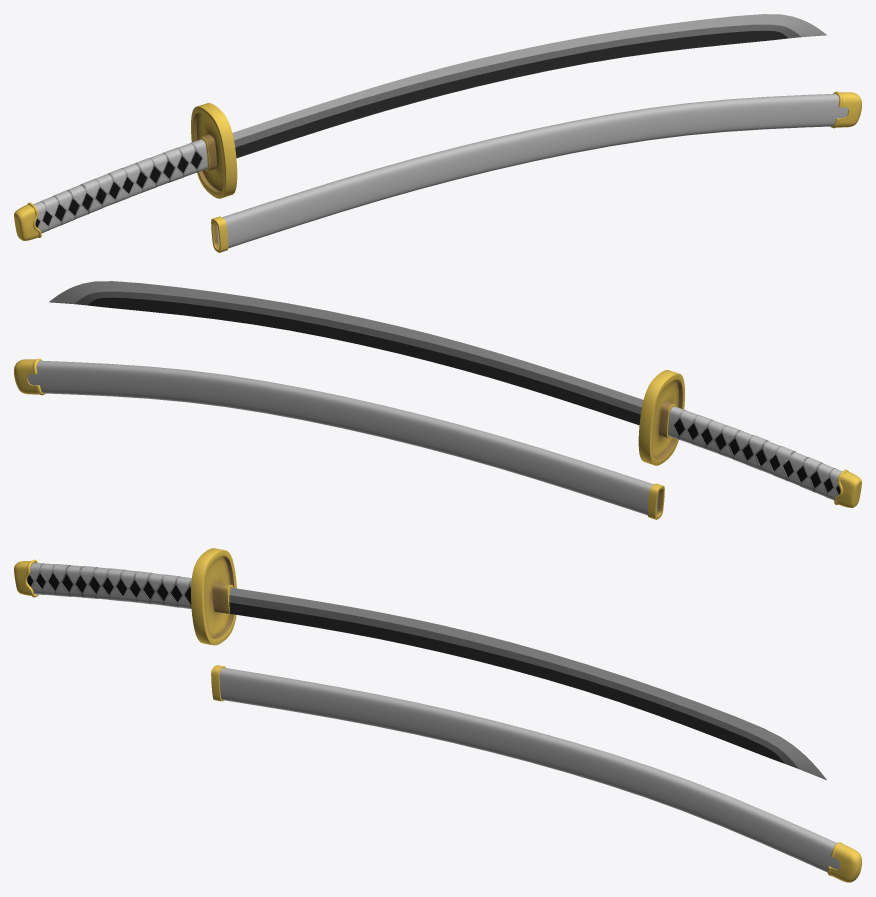
File: Wado Ichimonji.obj
3 views of the same model, one above another, from view 1: azimuth 30°, elevation 25°; view 2: azimuth 150°, elevation 25°; view 3: azimuth 330°, elevation 25° (orthographic).
Visible parts, largest first — view 1: scabbard_low, blade_low, handle.steel_low, handle_low, handle.acc1_low, scabbard.acc1_low, scabbard.steel_low; view 2: scabbard_low, blade_low, handle.steel_low, handle_low, handle.acc1_low, scabbard.acc1_low, scabbard.steel_low; view 3: scabbard_low, blade_low, handle.steel_low, handle_low, scabbard.acc1_low.
Boxes of the visible parts, left/top/right/bottom form: scabbard_low: left=217, top=93, right=848, bottom=248; blade_low: left=232, top=14, right=826, bottom=158; handle.steel_low: left=191, top=103, right=237, bottom=198; handle_low: left=35, top=151, right=201, bottom=227; handle.acc1_low: left=14, top=204, right=38, bottom=240; scabbard.acc1_low: left=836, top=92, right=861, bottom=127; scabbard.steel_low: left=211, top=216, right=228, bottom=252; scabbard_low: left=27, top=360, right=658, bottom=515; blade_low: left=49, top=281, right=643, bottom=425; handle.steel_low: left=638, top=370, right=684, bottom=465; handle_low: left=674, top=418, right=840, bottom=494; handle.acc1_low: left=837, top=471, right=861, bottom=507; scabbard.acc1_low: left=14, top=359, right=39, bottom=394; scabbard.steel_low: left=647, top=483, right=664, bottom=519; scabbard_low: left=219, top=667, right=840, bottom=872; blade_low: left=223, top=587, right=826, bottom=780; handle.steel_low: left=191, top=548, right=236, bottom=645; handle_low: left=27, top=573, right=191, bottom=604; scabbard.acc1_low: left=830, top=843, right=861, bottom=882.
Bounding box in the file's own units: 1.33 × 0.2613 × 0.0931.
Materials: 1 (1 with a texture image).
